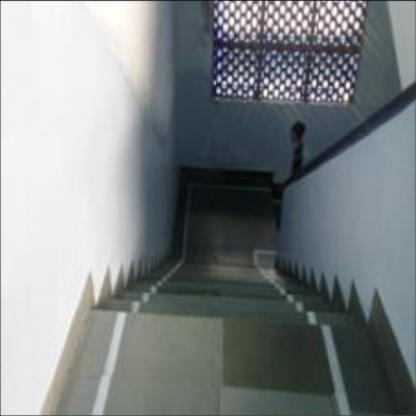stair_down: (89, 230, 357, 354)
